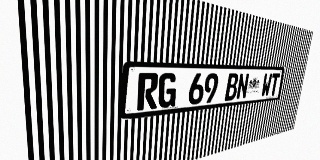6: (188, 73, 205, 105)
9: (203, 73, 219, 103)
B: (224, 73, 239, 101)
G: (157, 73, 178, 108)
N: (236, 73, 249, 100)
R: (137, 73, 159, 111)
T: (269, 73, 280, 96)
W: (261, 73, 272, 97)
